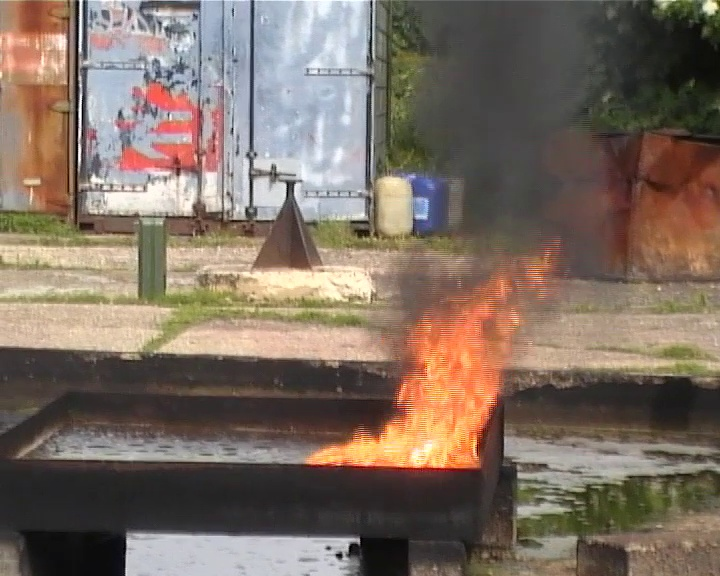fire: (310, 252, 546, 465)
